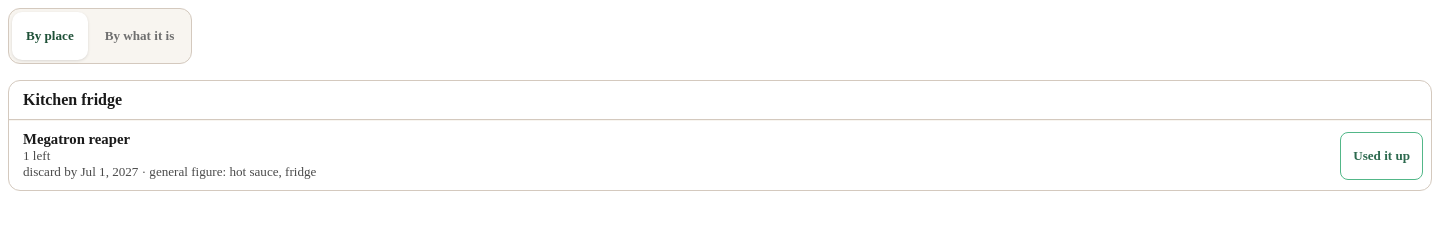
the row's Used one / Used it up — one key per intent › Used it up fails, tap again: the same key
Click the button with test id "pantry-row-action-put_up:jar-1".
click(1382, 156)  # box [1340,132,1423,180]
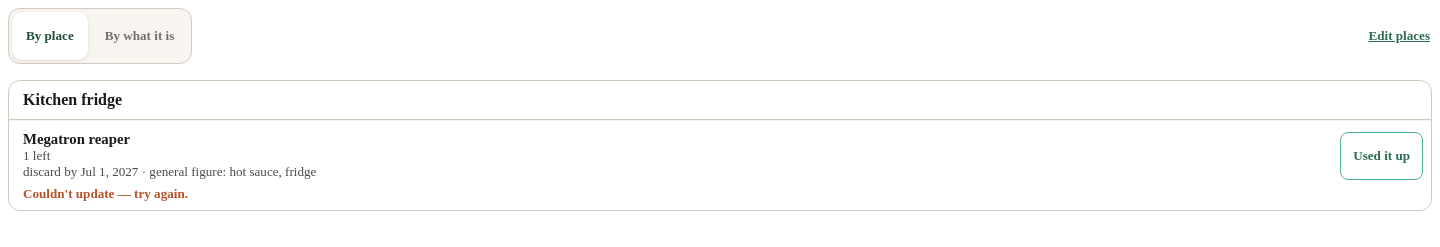
Check: the message "Couldn't update — try again." is shown, box [23,186,188,201]
Click the button with test id "pantry-row-action-put_up:jar-1".
click(1382, 156)  # box [1340,132,1423,180]
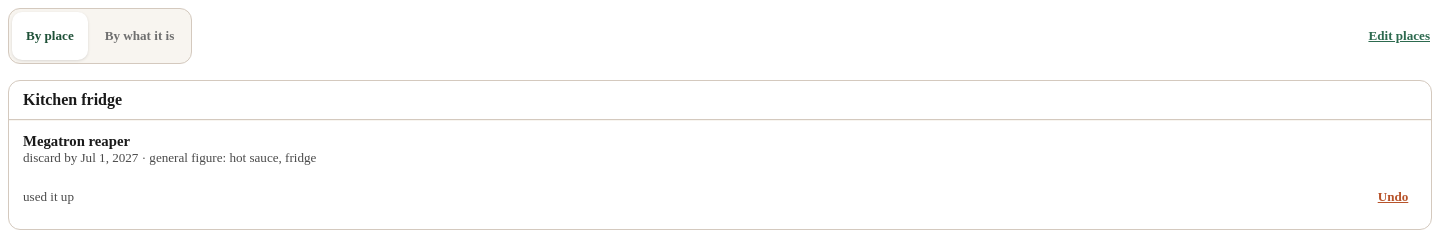
Check: the message "used it up Undo" is shown, box [17,173,1423,225]
